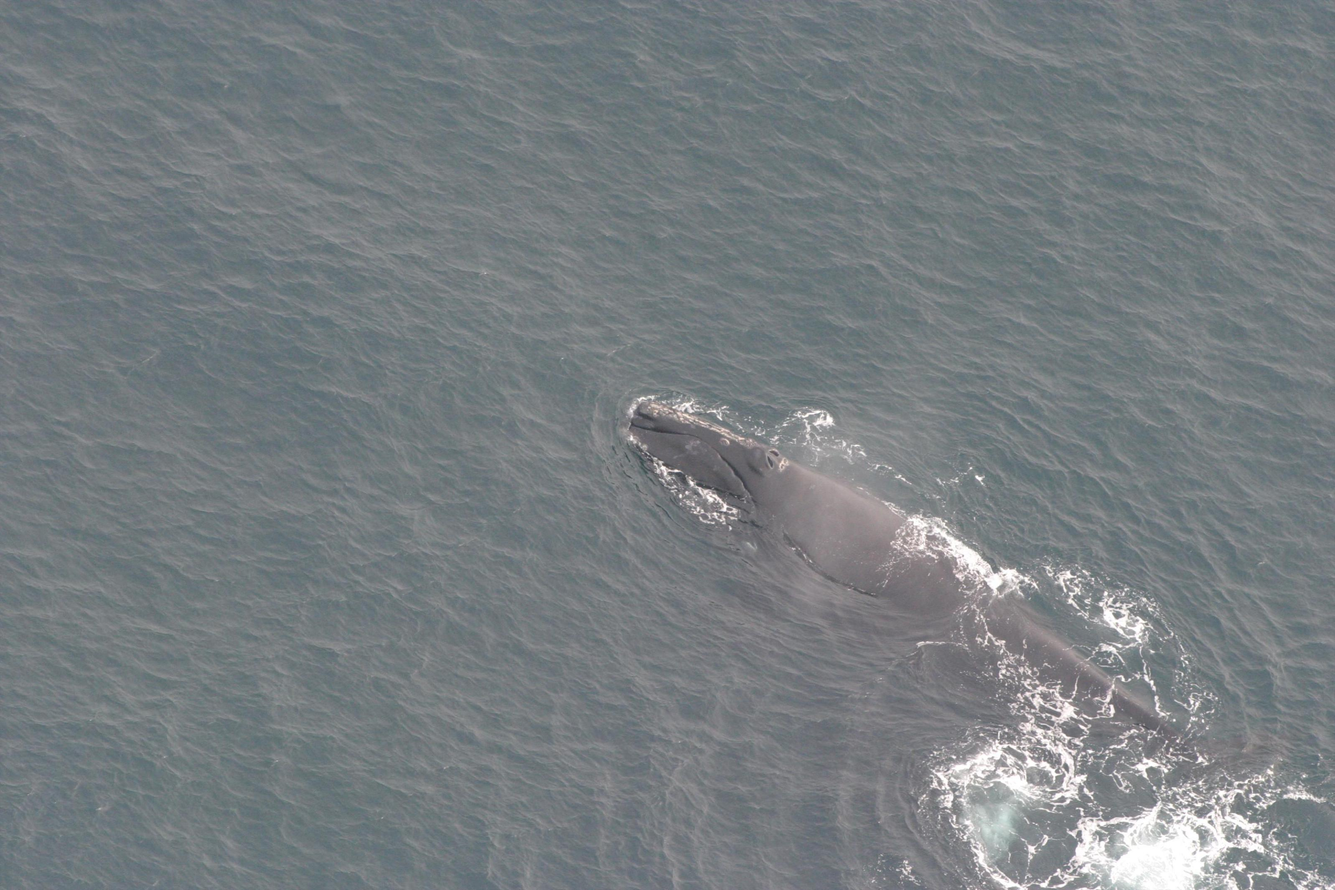whale: (615, 384, 1266, 773)
